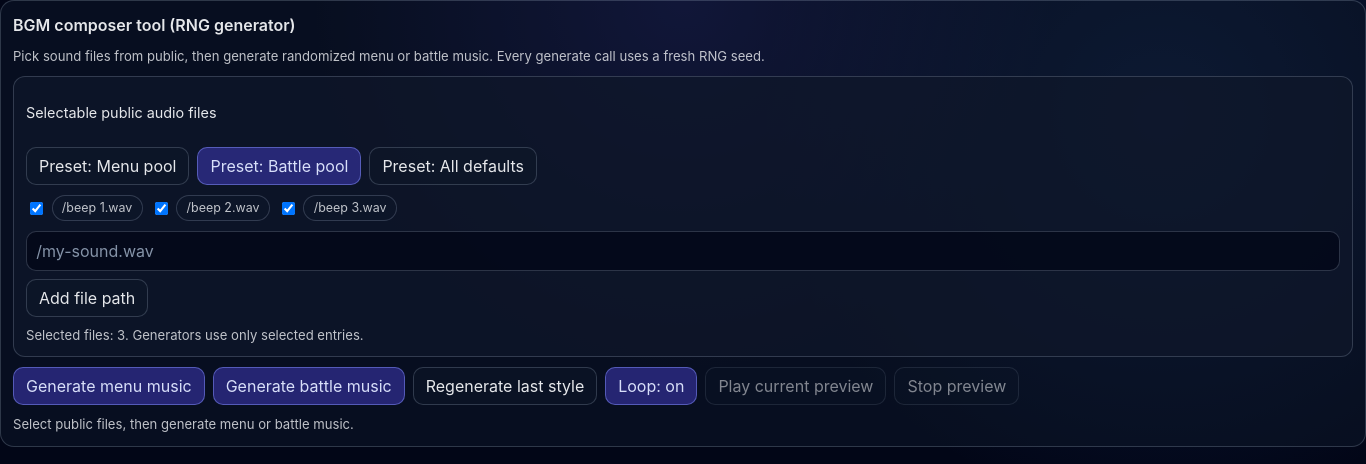
Test: BgmComposerToolExample › adds valid custom file path
In the field with placeholder "/my-sound.wav": (683, 251) [26, 231, 1340, 270], type "/custom/sound.ogg"
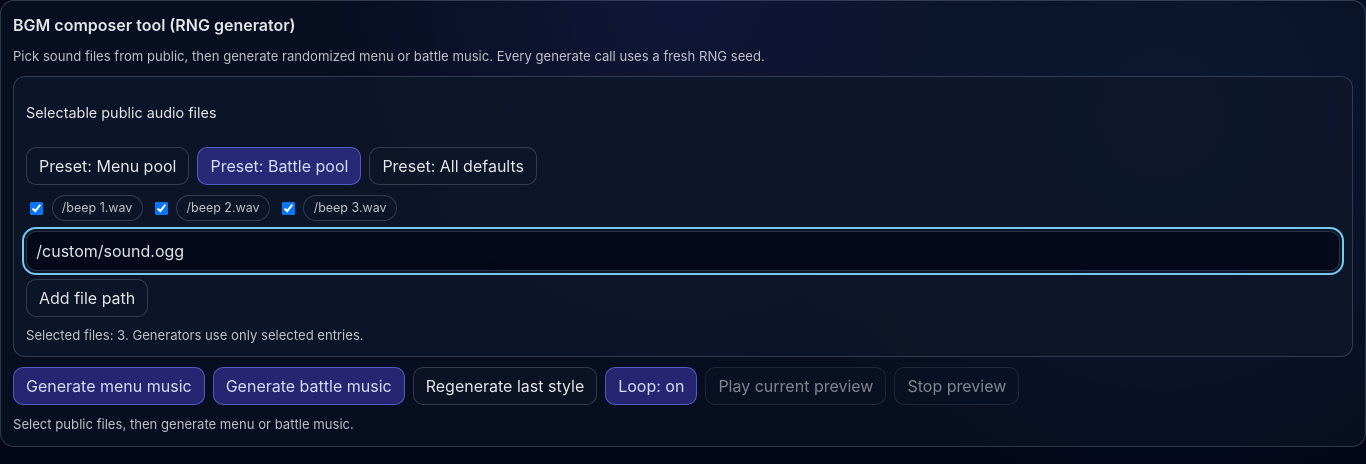
Click the button "Add file path": (87, 298) [26, 278, 148, 317]
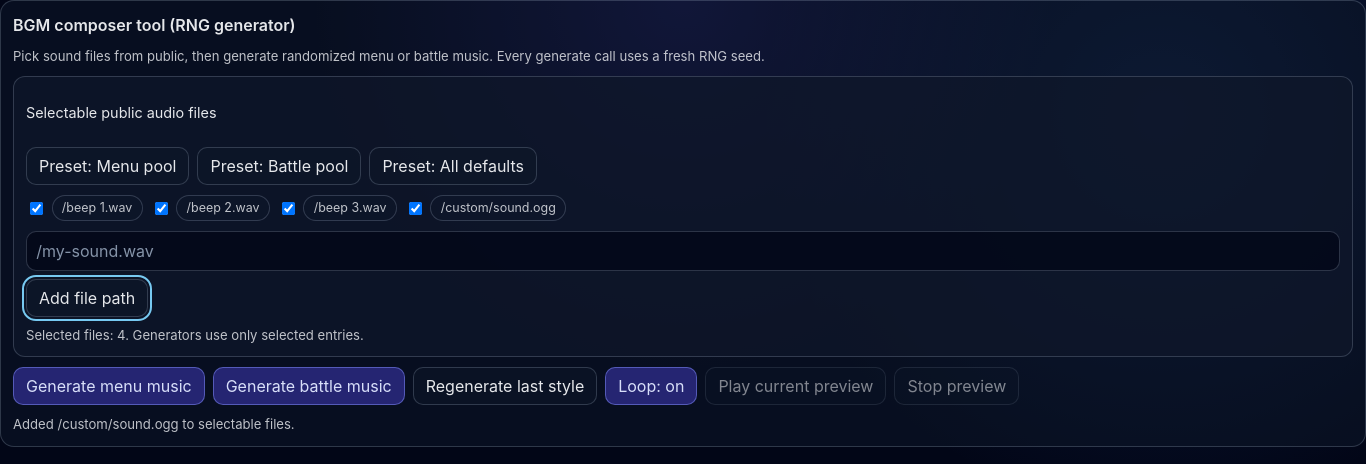
Now the text "Added /custom/sound.ogg to selectable files." is shown, box [13, 416, 295, 432]
